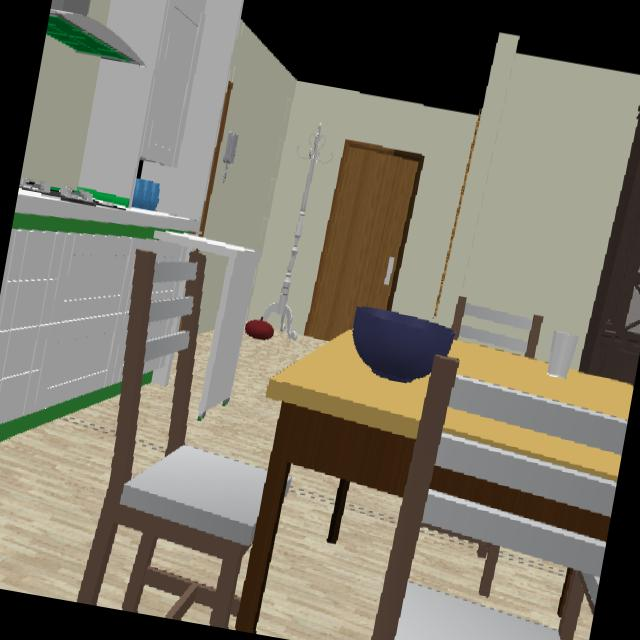bookshelf: (580, 110, 640, 382)
cabinet: (0, 231, 154, 425), (140, 0, 205, 165)
chair: (373, 355, 625, 640), (78, 251, 265, 626)
stove: (20, 180, 94, 204)
table: (237, 330, 428, 630), (449, 340, 633, 418), (432, 471, 609, 540), (445, 411, 620, 479)
